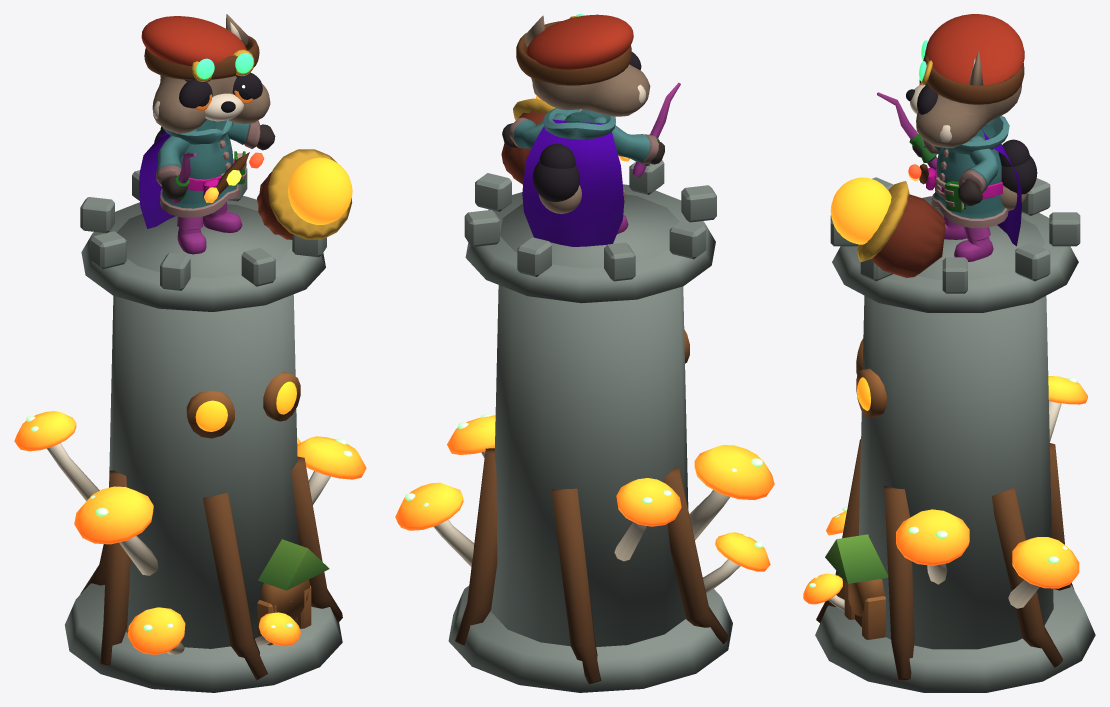
The model's file is tower_badger_inferno.glb.
3 views of the same model, side by side, from view 1: azimuth 30°, elevation 25°; view 2: azimuth 150°, elevation 25°; view 3: azimuth 270°, elevation 25° (orthographic). The views are drawn at different scales.
Visible parts, largest first — view 1: CustomTowerBase_badger_inferno, Mage_Body, NativeHat_RkBeret, RaccoonBrewCore, RkHead, RaccoonMortarCollar, Mage_Cape, NativeHat_RkBand, Mage_ArmRight, Mage_ArmLeft, Mage_LegRight, RaccoonMortarTube (+4 smaller); view 2: CustomTowerBase_badger_inferno, Mage_Cape, NativeHat_RkBeret, RkHead, NativeHat_RkBand, Mage_Body, RaccoonTailSeg_3, Mage_ArmRight, Mage_ArmLeft, RaccoonMortarTube, RaccoonTailSeg_4, 1H_Wand; view 3: CustomTowerBase_badger_inferno, NativeHat_RkBeret, Mage_Body, RaccoonMortarTube, RaccoonBrewCore, RkHead, NativeHat_RkBand, Mage_ArmLeft, RaccoonMortarCollar, Mage_LegLeft, RaccoonTailSeg_3, 1H_Wand (+2 smaller).
Boxes of the visible parts, box(x1,y1,x2,y2) form: CustomTowerBase_badger_inferno: box(14, 167, 366, 692); Mage_Body: box(160, 119, 246, 217); NativeHat_RkBeret: box(141, 16, 246, 65); RaccoonBrewCore: box(288, 157, 352, 224); RkHead: box(152, 75, 270, 133); RaccoonMortarCollar: box(268, 149, 352, 239); Mage_Cape: box(139, 132, 175, 228); NativeHat_RkBand: box(144, 36, 259, 79); Mage_ArmRight: box(156, 129, 196, 199); Mage_ArmLeft: box(215, 120, 275, 150); Mage_LegRight: box(177, 216, 206, 254); RaccoonMortarTube: box(257, 172, 293, 239); CustomTowerBase_badger_inferno: box(395, 160, 774, 692); Mage_Cape: box(522, 119, 624, 246); NativeHat_RkBeret: box(526, 14, 633, 69); RkHead: box(531, 64, 650, 116); NativeHat_RkBand: box(516, 21, 631, 85); Mage_Body: box(543, 108, 625, 203); RaccoonTailSeg_3: box(532, 161, 580, 201); Mage_ArmRight: box(593, 116, 664, 164); Mage_ArmLeft: box(502, 113, 567, 148); RaccoonMortarTube: box(501, 111, 546, 184); RaccoonTailSeg_4: box(539, 143, 575, 168); 1H_Wand: box(632, 82, 680, 177); CustomTowerBase_badger_inferno: box(803, 177, 1095, 692); NativeHat_RkBeret: box(925, 14, 1024, 85); Mage_Body: box(925, 116, 1009, 228); RaccoonMortarTube: box(870, 194, 945, 277); RaccoonBrewCore: box(830, 177, 891, 244); RkHead: box(916, 84, 1021, 148); NativeHat_RkBand: box(923, 55, 1024, 104); Mage_ArmLeft: box(958, 135, 998, 205); RaccoonMortarCollar: box(857, 181, 909, 261); Mage_LegLeft: box(954, 226, 993, 261); RaccoonTailSeg_3: box(1001, 155, 1037, 194); 1H_Wand: box(877, 92, 937, 169).
Size of the model in its own units: 1.18 by 2.31 by 1.01.
Materials: 24 (3 with a texture image).
